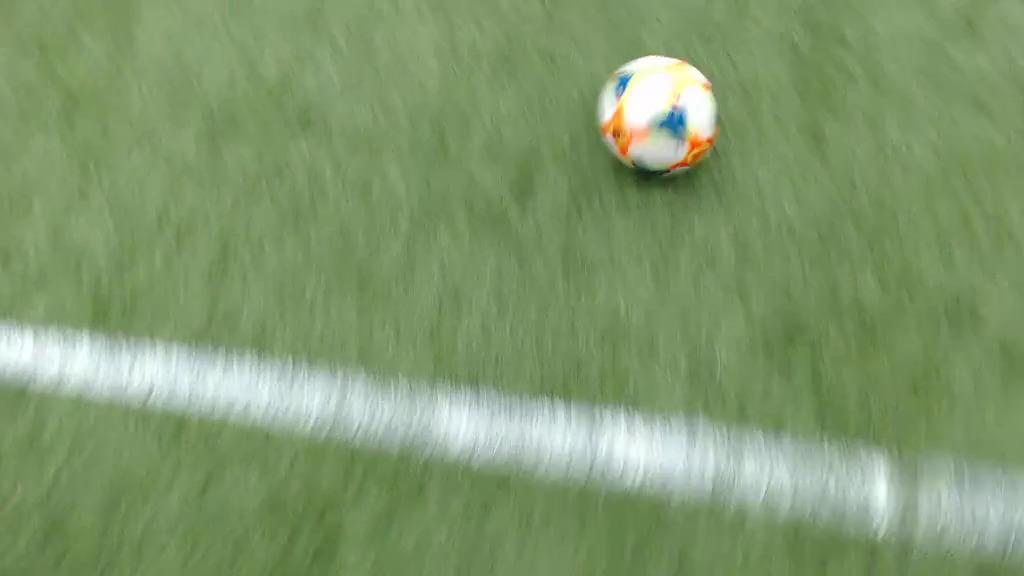ball: (597, 55, 719, 182)
